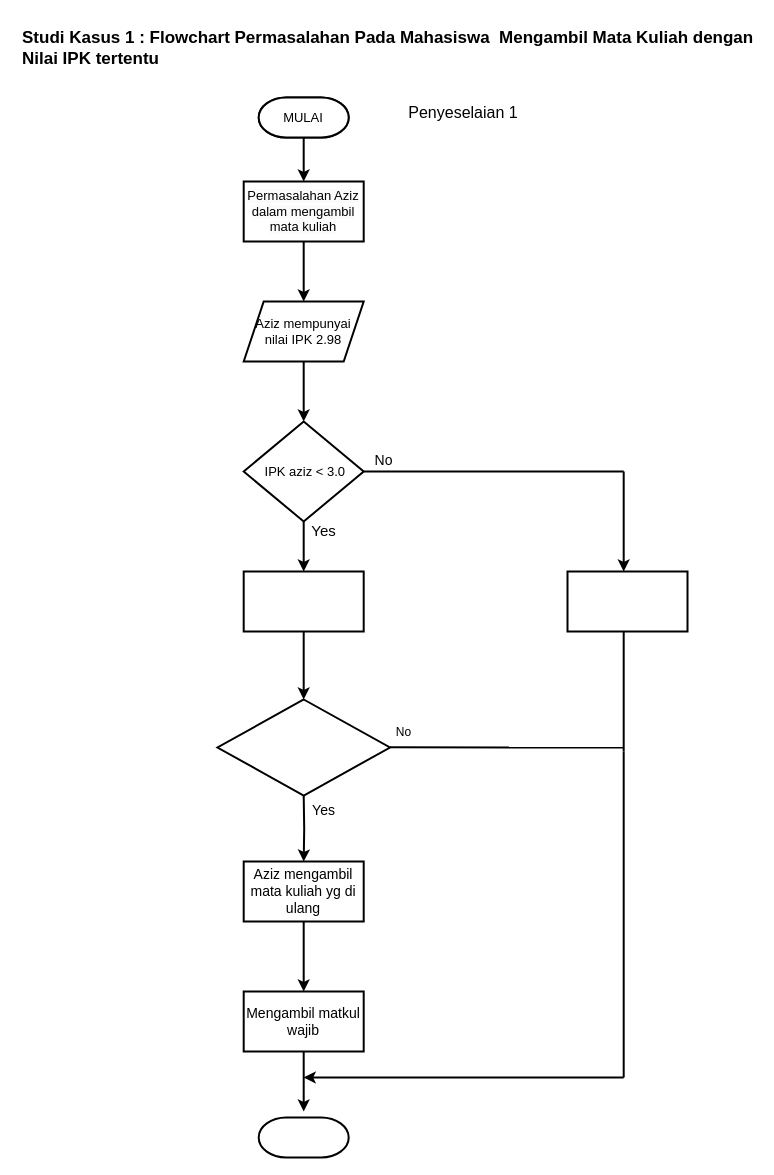
The diagram is 774 pixels wide and 1175 high, and some of its shapes have lost their labels. The centre of each missing label's shape, as x and y in pixels:
"Apakah akan mengambil matkul yang di ulang?" belongs at pixel 303 747.
"Dapat Mengambil 20 Sks" belongs at pixel 303 601.
"Dapat Mengambil 24 Sks" belongs at pixel 627 601.
"END" belongs at pixel 303 1137.
